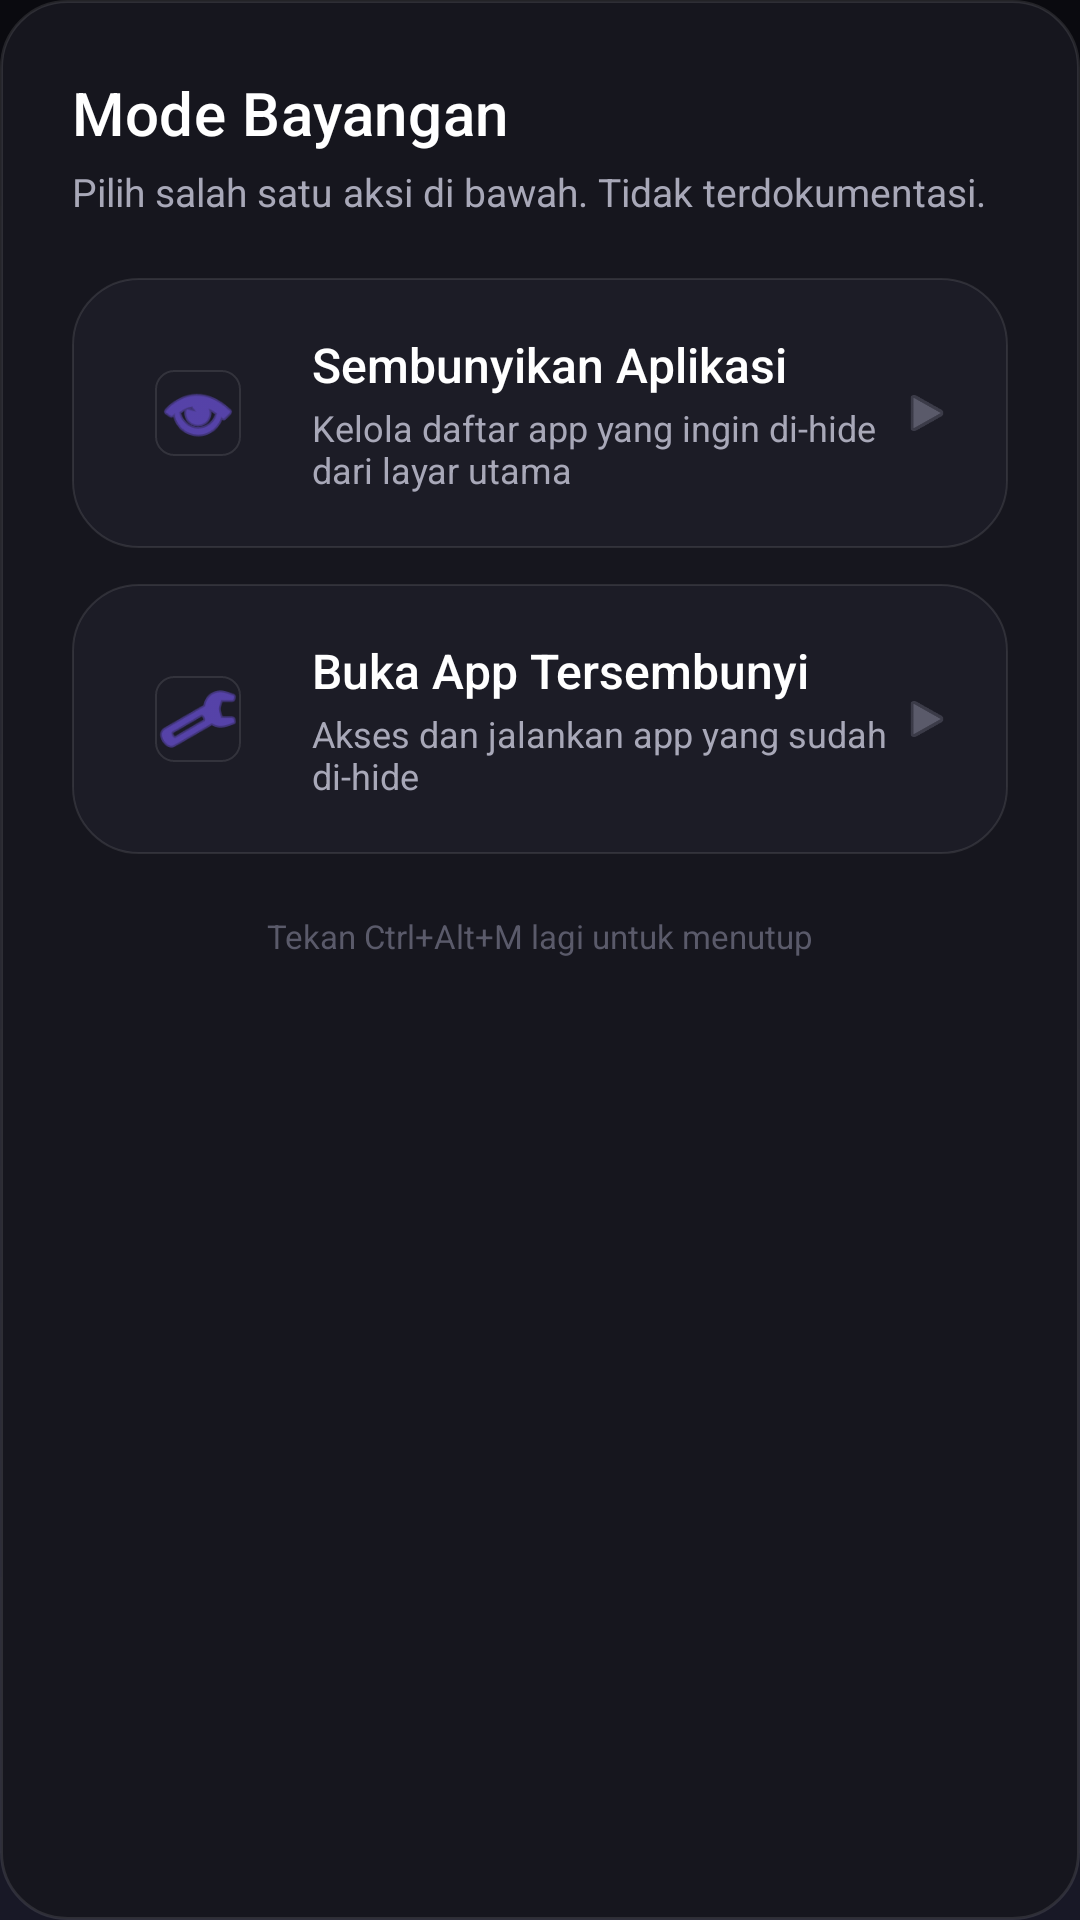

Named icons in this screenshot (1080 × 1920) and their centers, point (x, y):
manage: point (198, 719)
play: point (927, 413), point (927, 719)
view: point (198, 415)
